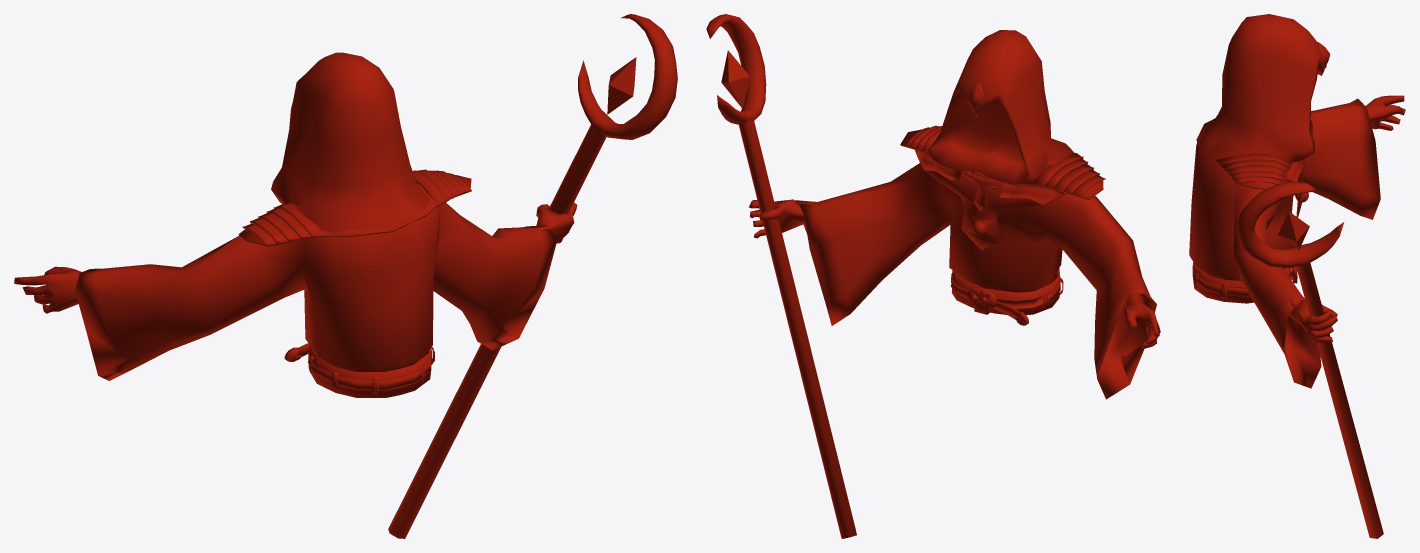
Rendered from top_000011.obj.
The picture shows the model from 3 angles, left to right: view 1: azimuth 30°, elevation 25°; view 2: azimuth 150°, elevation 25°; view 3: azimuth 270°, elevation 25°; orthographic projection. The views are drawn at different scales.
Parts seen in each view (by area): view 1: LowPoly_Warlock.000_Plane.005; view 2: LowPoly_Warlock.000_Plane.005; view 3: LowPoly_Warlock.000_Plane.005.
Part boxes in pixels (box(x1,y1,x2,y2)): LowPoly_Warlock.000_Plane.005: box(14, 14, 677, 538); LowPoly_Warlock.000_Plane.005: box(706, 14, 1160, 538); LowPoly_Warlock.000_Plane.005: box(1189, 14, 1405, 538).
Bounding box in the file's own units: 2.08 × 1.91 × 0.7896.
